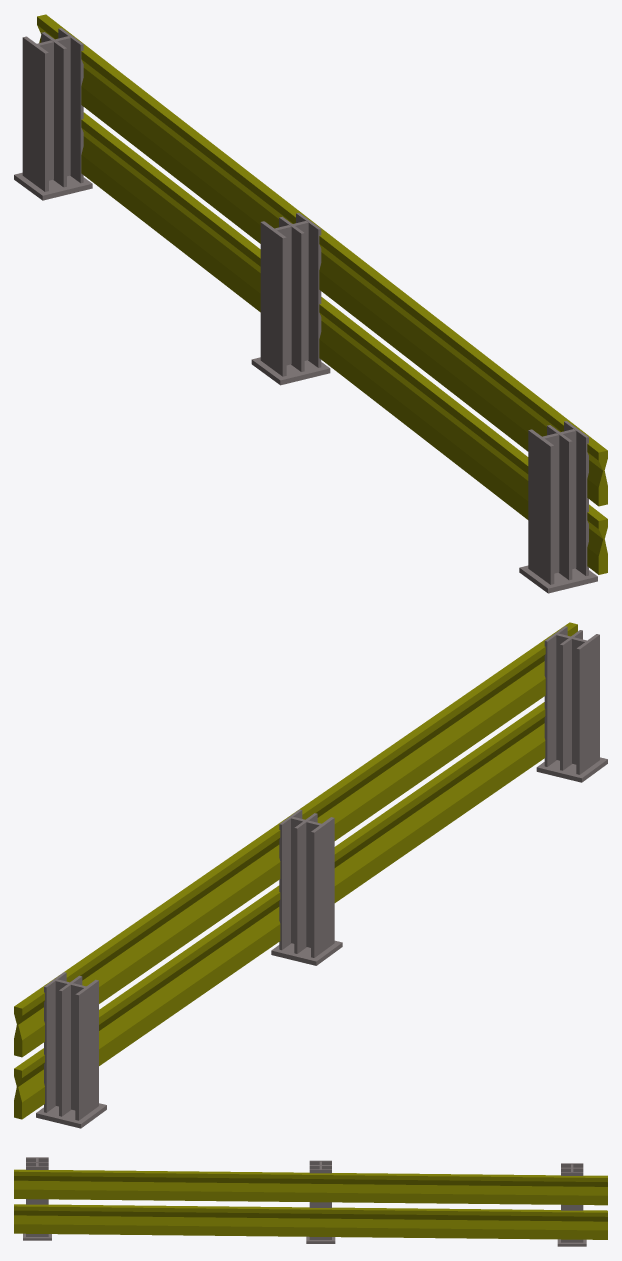
Rendered from RoadBarrier.fbx.
3 renders of one model, top to bottom at view 1: azimuth 30°, elevation 25°; view 2: azimuth 150°, elevation 25°; view 3: azimuth 270°, elevation 25°, orthographic. The views are drawn at different scales.
Parts seen in each view (by area): view 1: Side_barri_by_lastday_animations:Box; view 2: Side_barri_by_lastday_animations:Box; view 3: Side_barri_by_lastday_animations:Box.
Boxes of the visible parts, left/top/right/bottom form: Side_barri_by_lastday_animations:Box: left=14, top=14, right=607, bottom=593; Side_barri_by_lastday_animations:Box: left=14, top=622, right=607, bottom=1128; Side_barri_by_lastday_animations:Box: left=14, top=1157, right=607, bottom=1246.
Size of the model in its own units: 1.57 by 2.8 by 20.82.
